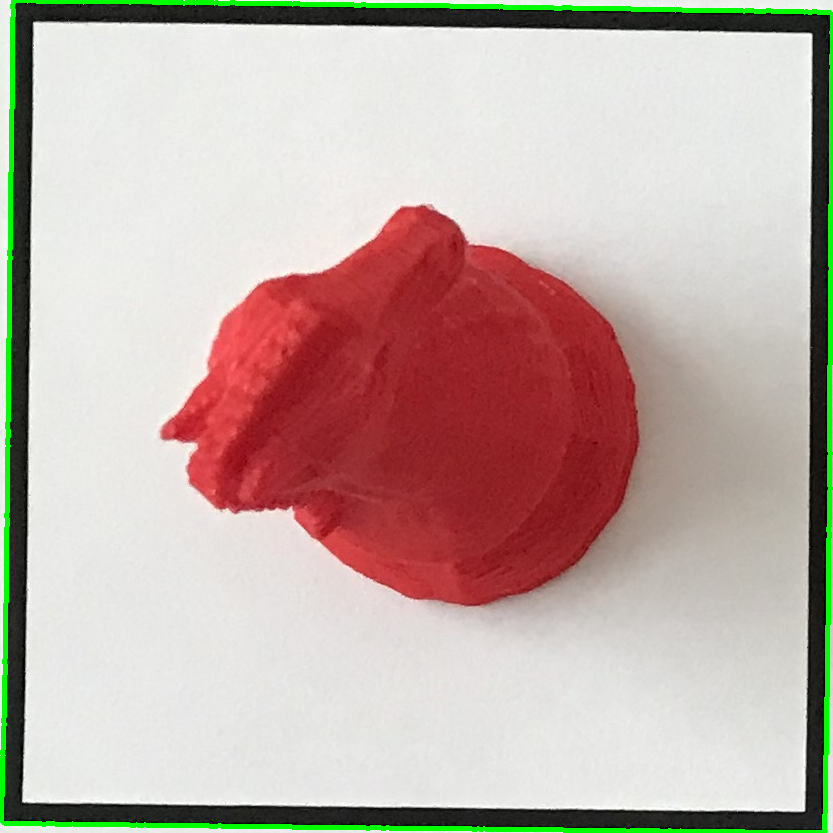Red Knight: (152, 190, 661, 625)
